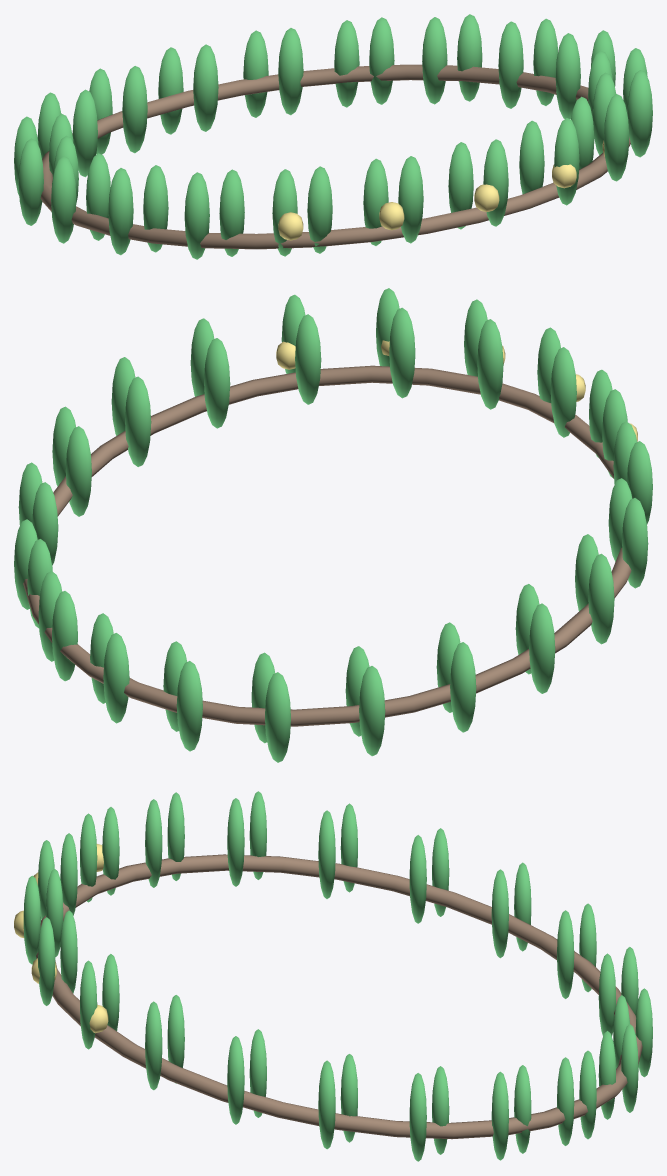
File: crown_laurel.glb
The picture shows the model from 3 angles, top to bottom: view 1: azimuth 30°, elevation 25°; view 2: azimuth 150°, elevation 25°; view 3: azimuth 270°, elevation 25°; orthographic projection. The views are drawn at different scales.
Size of the model in its own units: 1.16 by 0.4208 by 1.14.
